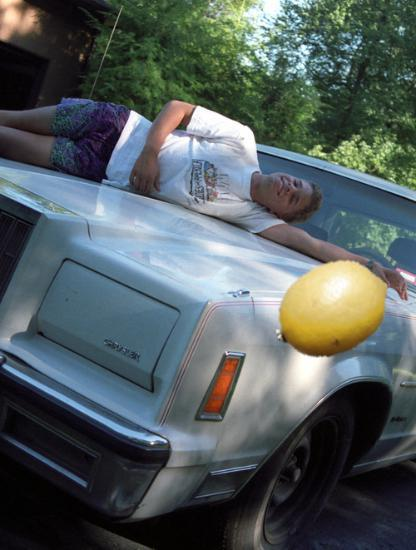Lemon: (272, 249, 392, 369)
